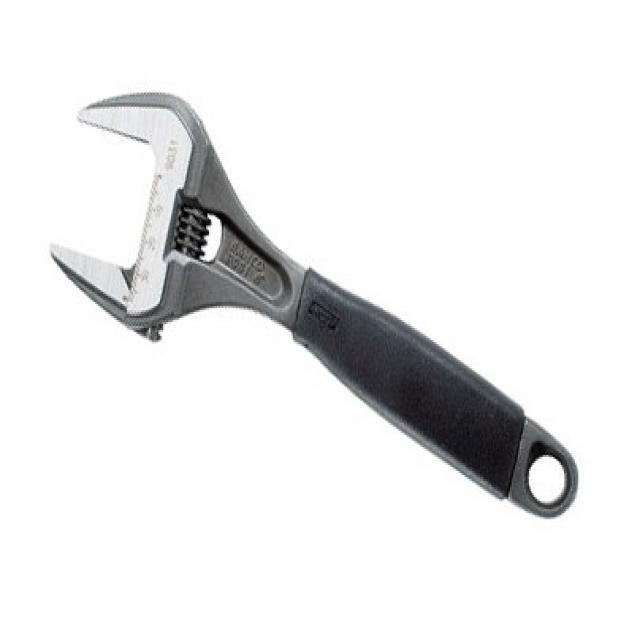wrench: (41, 86, 588, 528)
